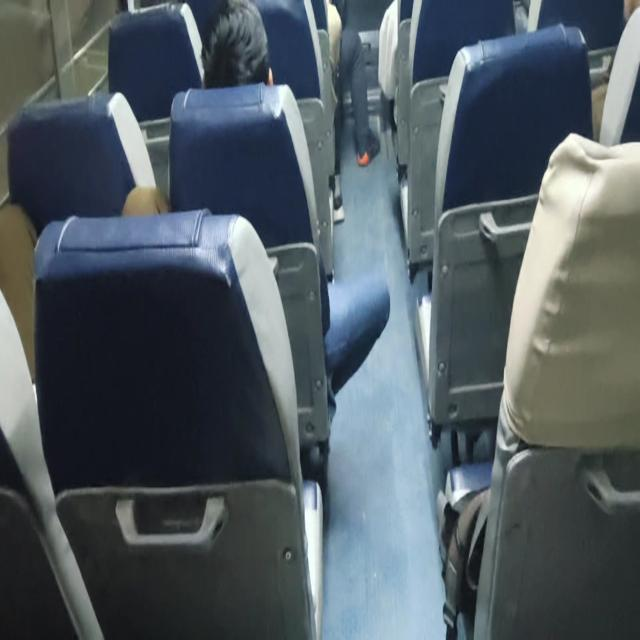person: (122, 0, 391, 426), (327, 1, 381, 167), (200, 0, 274, 89)
